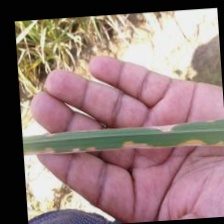Leaf_Blast: (25, 135, 224, 156), (42, 119, 220, 138)
